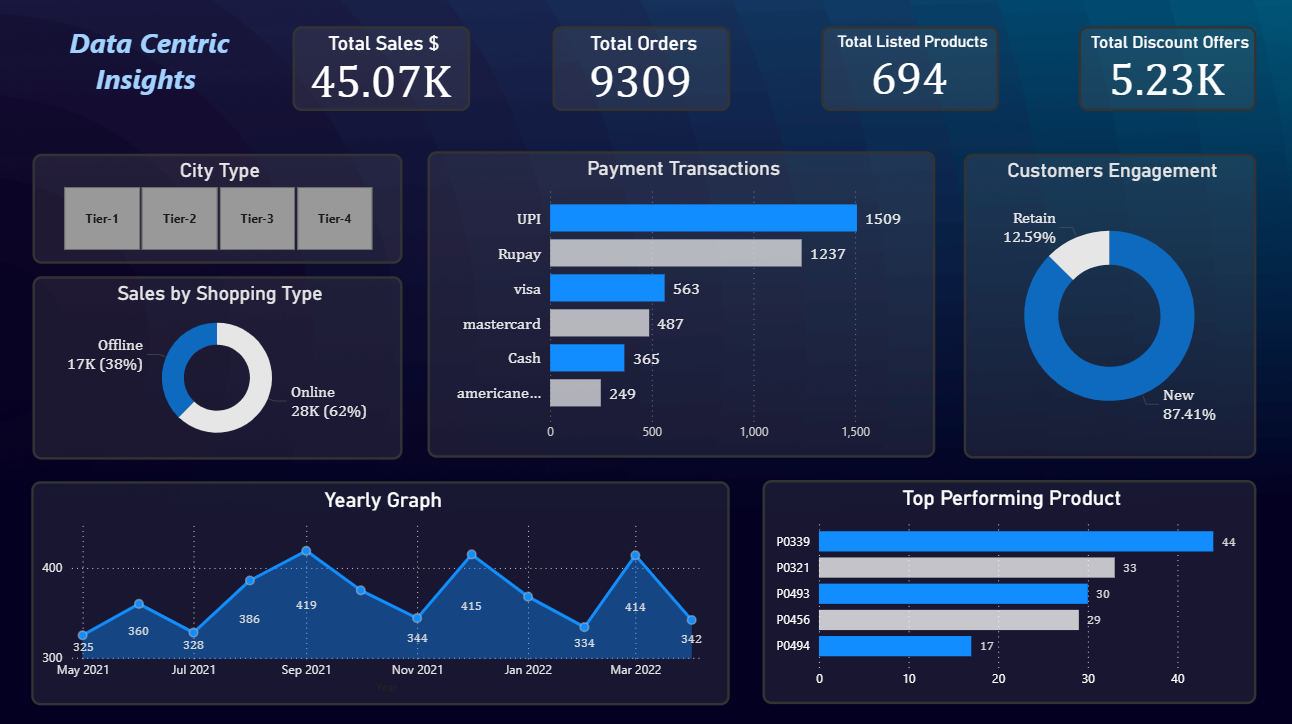

Layout of this report page (visuals, bound fields, positions):
{"tool":"powerbi","page":{"name":"Page 1","canvas":[1280,720],"ordinal":0},"visuals":[{"type":"donutChart","title":"Sales by Shopping Type","fields":{"Category":["Fact_Sales_1.Shopping type"],"Y":["Sum(Fact_Sales_1.cost)"]},"box":[36.8,276.1,363.2,180.4],"z":0},{"type":"clusteredBarChart","title":"Payment Transactions","fields":{"Category":["Fact_Sales_1.payment"],"Y":["CountNonNull(Fact_Sales_1.payment)"]},"box":[424.5,153.4,498.2,300.6],"z":1000},{"type":"slicer","title":"City Type","fields":{"Values":["Fact_Sales_1.City Type"]},"box":[36.8,155.8,363.2,108],"z":2000},{"type":"stackedAreaChart","title":"Yearly Graph","fields":{"Y":["CountNonNull(Fact_Sales_1.transactional_date)"],"Category":["Fact_Sales_1.transactional_date.Variation.Date Hierarchy.Year","Fact_Sales_1.transactional_date.Variation.Date Hierarchy.Month"]},"box":[35.6,477.3,685.9,219.6],"z":3000},{"type":"clusteredBarChart","title":"Top Performing Product","fields":{"Category":["Fact_Sales_1.product_id"],"Y":["Sum(Fact_Sales_1.quantity)"]},"box":[753.4,476.1,484.7,219.6],"z":4000},{"type":"card","title":"Total Sales $","fields":{"Values":["Sum(Fact_Sales_1.cost)"]},"box":[292,30.7,174.2,83.4],"z":5000},{"type":"donutChart","title":"Customers Engagement","fields":{"Category":["Fact_Sales_1.Customer_Retent"],"Y":["CountNonNull(Fact_Sales_1.Customer_Retent)"]},"box":[950.9,155.8,287.1,299.4],"z":6000},{"type":"card","title":"Total Orders","fields":{"Values":["Sum(Fact_Sales_1.quantity)"]},"box":[547.2,30.7,174.2,83.4],"z":7000},{"type":"card","title":"Total Listed Products ","fields":{"Values":["Count(Fact_Sales_1.product_id)"]},"box":[811,30.7,174.2,83.4],"z":8000},{"type":"card","title":"Total Discount Offers","fields":{"Values":["Sum(Fact_Sales_1.Discount)"]},"box":[1063.8,30.7,174.2,83.4],"z":9000},{"type":"textbox","box":[35.6,23.3,231.9,90.8],"z":10000}]}

Visuals, with their boxes in screenshot pixels (x1, y1, x2, y2), scaled from the page's 1280x720 canvas onto the 1292x724 screenshot:
"Sales by Shopping Type" donutChart: (left=37, top=278, right=404, bottom=459)
"Payment Transactions" clusteredBarChart: (left=428, top=154, right=931, bottom=457)
"City Type" slicer: (left=37, top=157, right=404, bottom=265)
"Yearly Graph" stackedAreaChart: (left=36, top=480, right=728, bottom=701)
"Top Performing Product" clusteredBarChart: (left=760, top=479, right=1250, bottom=700)
"Total Sales $" card: (left=295, top=31, right=471, bottom=115)
"Customers Engagement" donutChart: (left=960, top=157, right=1250, bottom=458)
"Total Orders" card: (left=552, top=31, right=728, bottom=115)
"Total Listed Products " card: (left=819, top=31, right=994, bottom=115)
"Total Discount Offers" card: (left=1074, top=31, right=1250, bottom=115)
textbox: (left=36, top=23, right=270, bottom=115)
